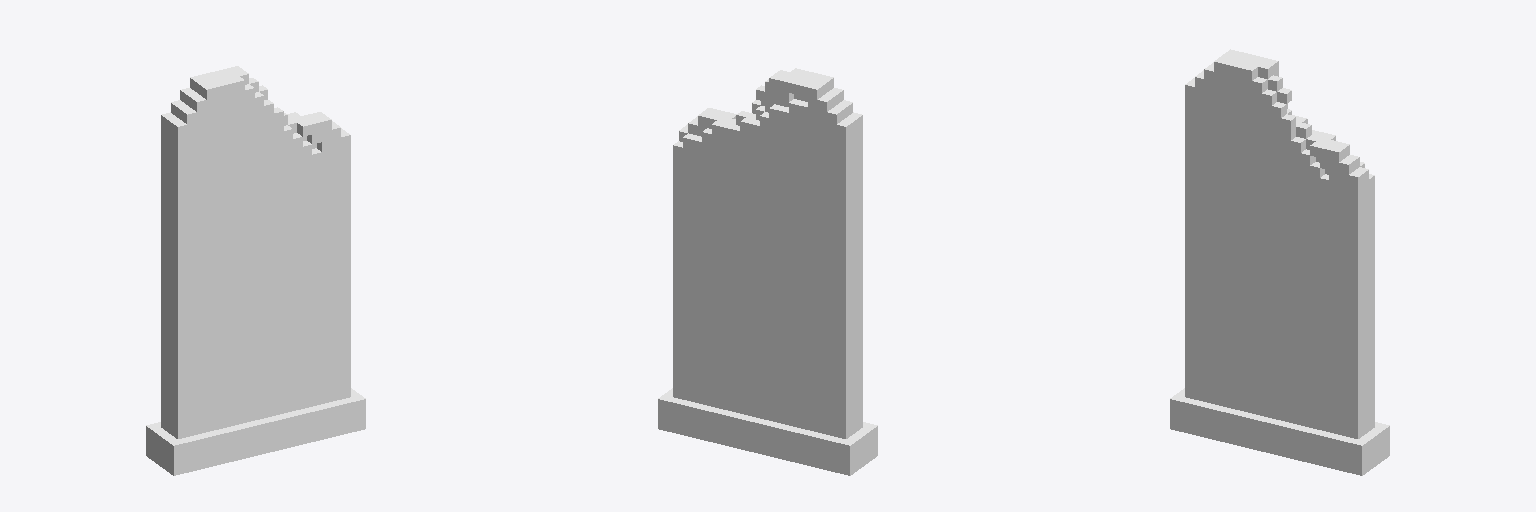
File: Crypt.obj
3 views of the same model, side by side, from view 1: azimuth 30°, elevation 25°; view 2: azimuth 150°, elevation 25°; view 3: azimuth 330°, elevation 25° (orthographic).
Parts seen in each view (by area): view 1: object 1; view 2: object 1; view 3: object 1.
Part boxes in pixels (left/top/right/bottom): object 1: left=146, top=66, right=365, bottom=475; object 1: left=658, top=68, right=877, bottom=475; object 1: left=1170, top=49, right=1389, bottom=475.
Bounding box in the file's own units: 2 × 3.7 × 0.5.